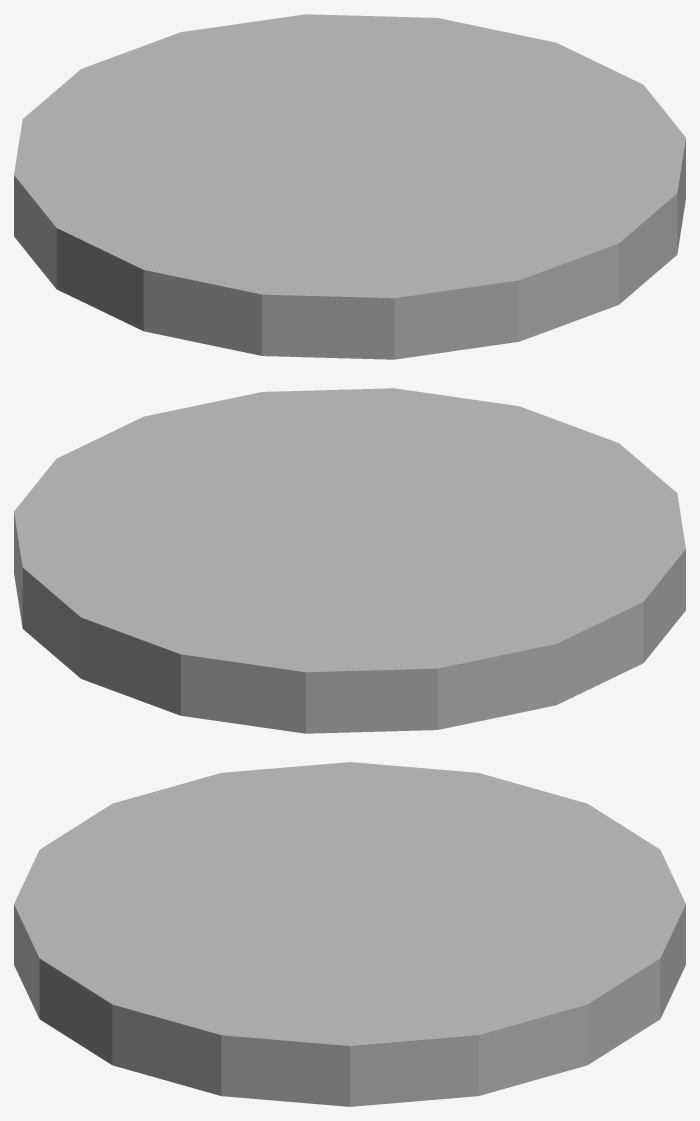
File: coin.obj
3 views of the same model, one above another, from view 1: azimuth 30°, elevation 25°; view 2: azimuth 150°, elevation 25°; view 3: azimuth 270°, elevation 25° (orthographic).
Visible parts, largest first — view 1: Cylinder; view 2: Cylinder; view 3: Cylinder.
Part boxes in pixels (x1=…): Cylinder: x1=14, y1=14, x2=685, y2=359; Cylinder: x1=14, y1=388, x2=685, y2=733; Cylinder: x1=14, y1=762, x2=685, y2=1106.
Size of the model in its own units: 0.25 by 0.025 by 0.25.
